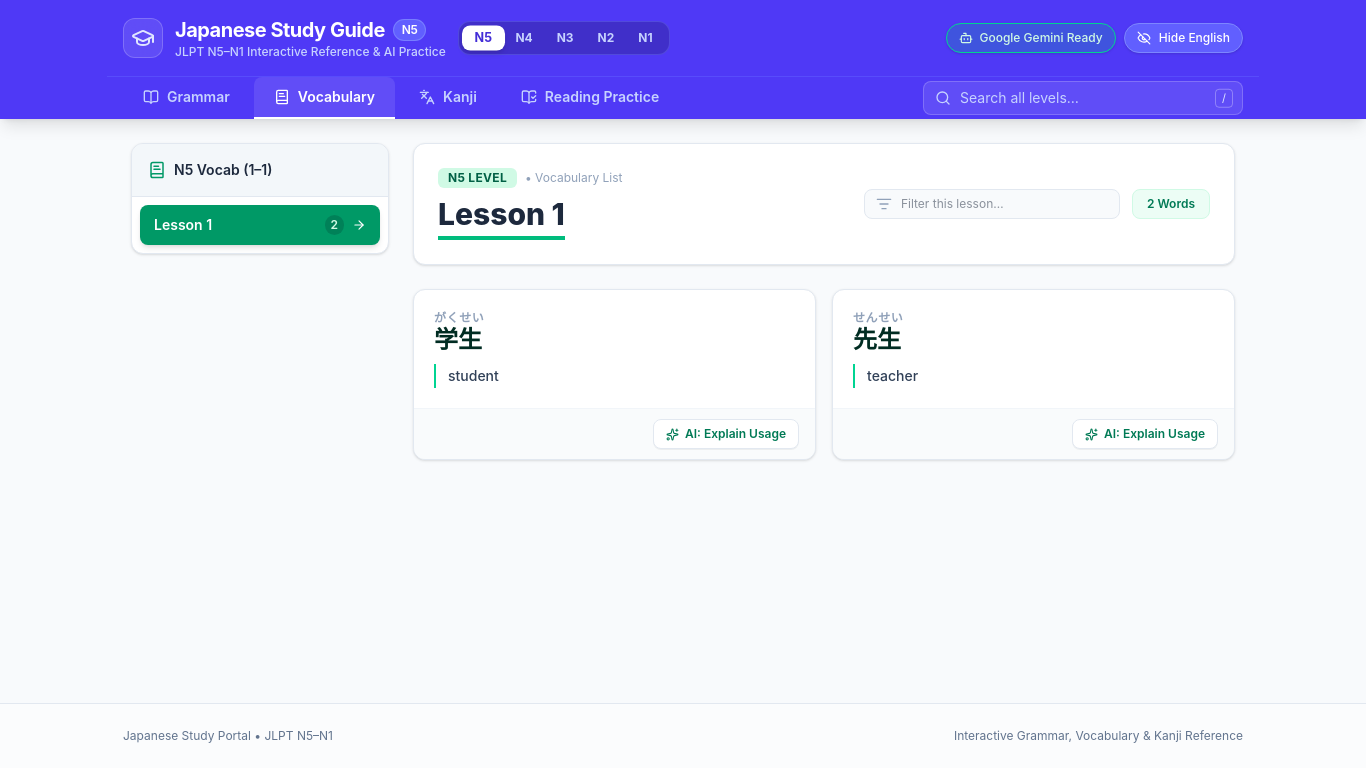
AI artifacts on study cards › a rejected key shows an inline error on that card, and the button can try again
The image size is (1366, 768).
Expected: the text "学生" is shown, [434,325,482,354]
What coordinates should you click on to do the following:
click the button "AI: Explain Usage" below "student"
I would click on:
 (726, 434)
Its box is [653,419,799,449].
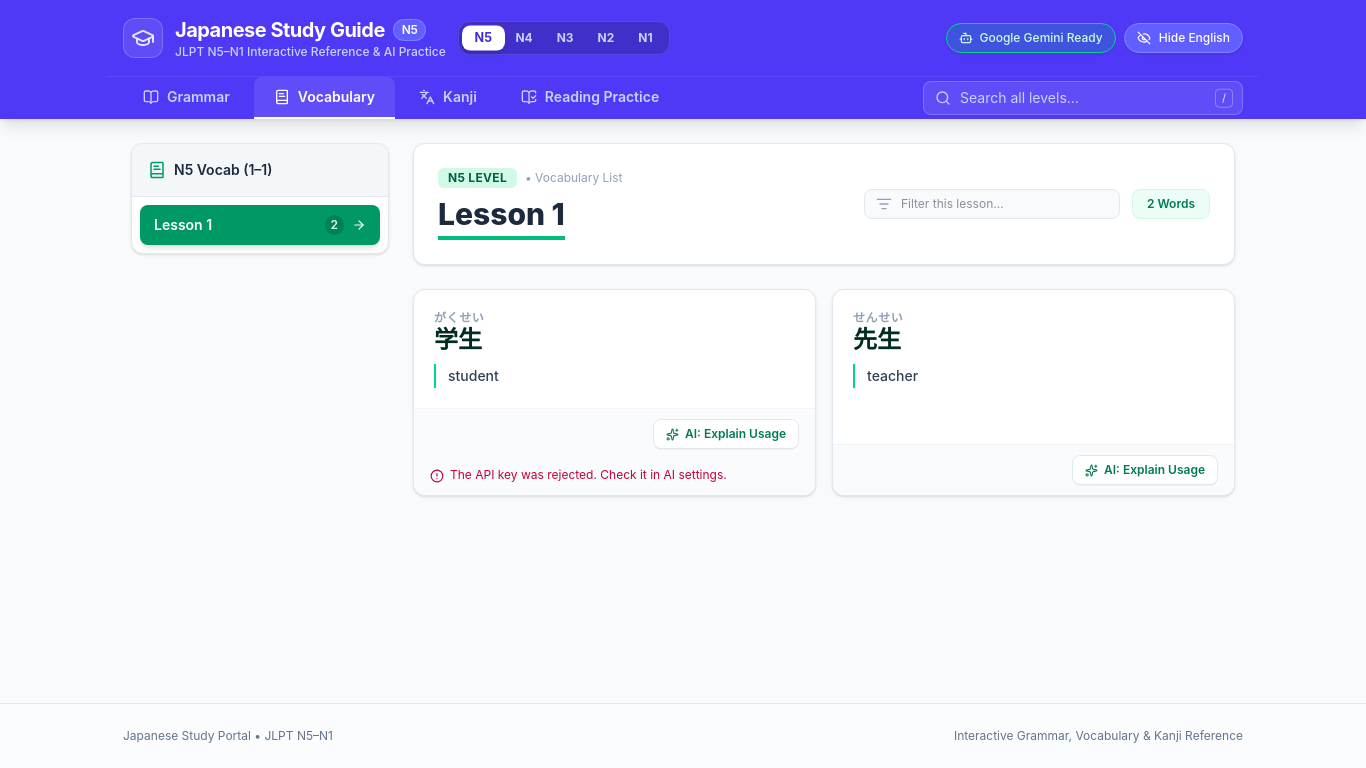
Expected: the message shows "The API key was rejected", [450,467,727,482]
